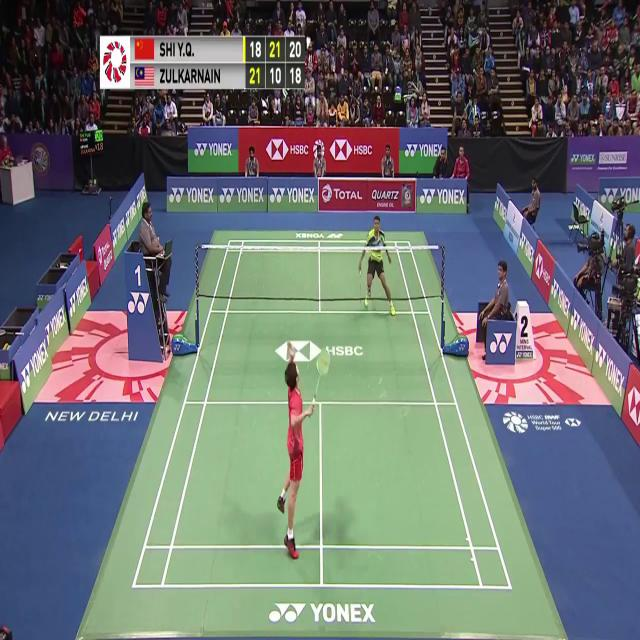Shuttlecock: (303, 41, 310, 53)
